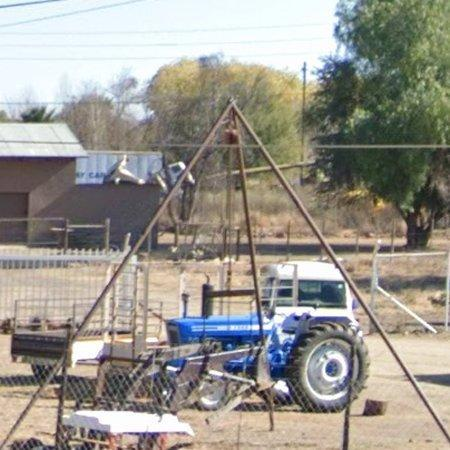tractors: (166, 314, 260, 351)
